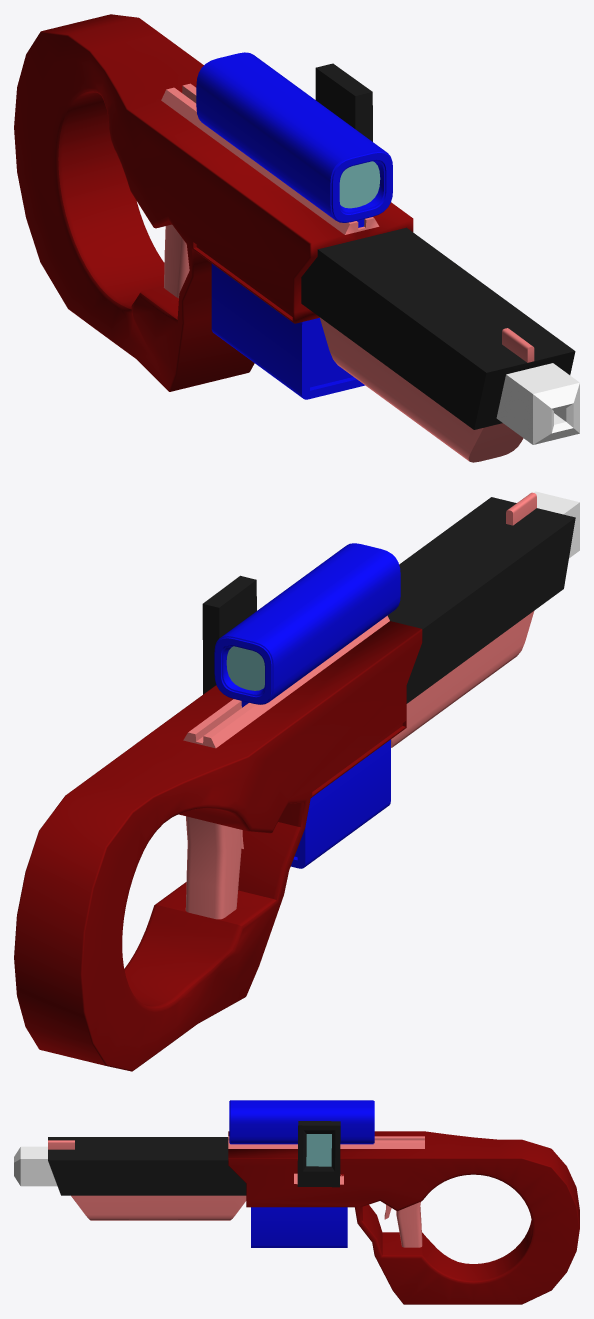
The model's file is ParabolicGun.fbx.
3 views of the same model, one above another, from view 1: azimuth 30°, elevation 25°; view 2: azimuth 150°, elevation 25°; view 3: azimuth 270°, elevation 25° (orthographic). The views are drawn at different scales.
Visible parts, largest first — view 1: Cylinder001; view 2: Cylinder001; view 3: Cylinder001.
Part boxes in pixels (x1,y1,x2,y2): Cylinder001: (14,14,579,462); Cylinder001: (14,491,579,1071); Cylinder001: (14,1100,579,1304).
Bounding box in the file's own units: 8.17 × 21.34 × 58.46.
